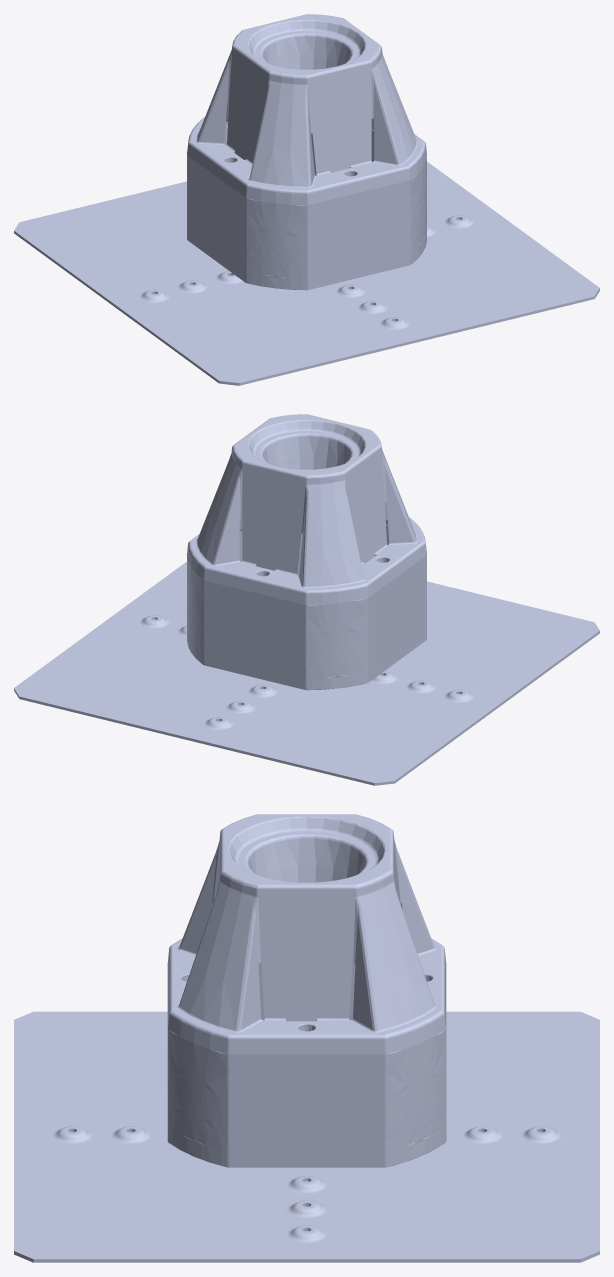
The model's file is goal_neutral.glb.
3 views of the same model, one above another, from view 1: azimuth 30°, elevation 25°; view 2: azimuth 150°, elevation 25°; view 3: azimuth 270°, elevation 25° (orthographic). The views are drawn at different scales.
Parts seen in each view (by area): view 1: world; view 2: world; view 3: world.
Boxes of the visible parts, bbox=[...] form: world: bbox=[14, 14, 599, 385]; world: bbox=[14, 414, 599, 785]; world: bbox=[14, 814, 599, 1262].
Bounding box in the file's own units: 0.3 × 0.1635 × 0.3.
